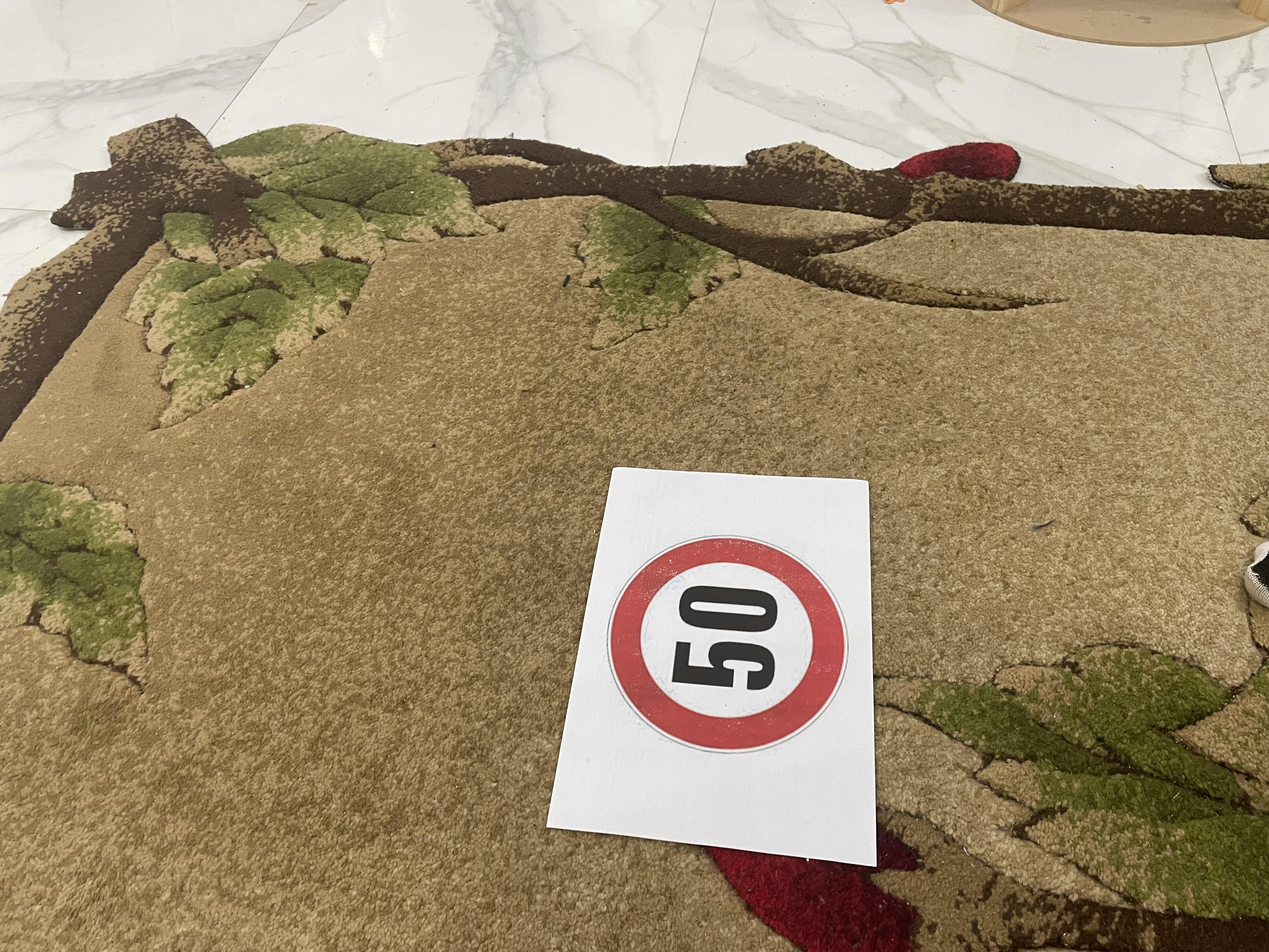50-Speed: (248, 451, 566, 642)
